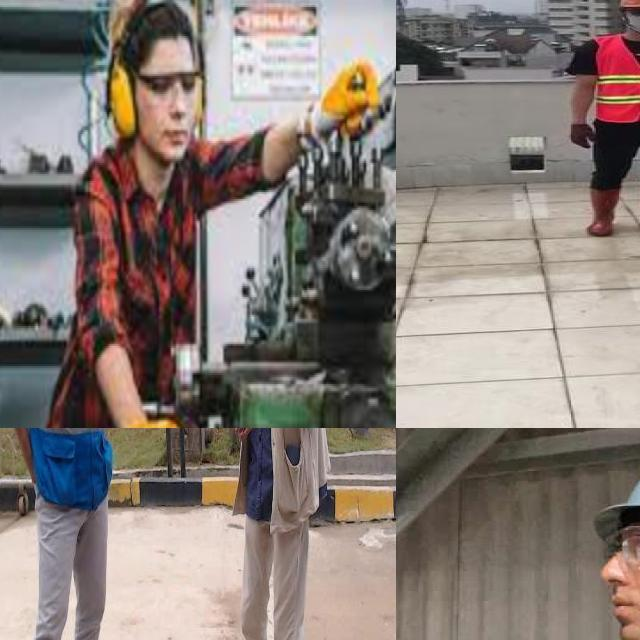Ear-protection: (103, 4, 207, 174)
boots: (585, 188, 619, 236)
face_mask: (623, 4, 640, 31)
glasses: (623, 5, 640, 18)
hand_glove: (566, 123, 600, 150)
person: (178, 428, 341, 640), (0, 428, 150, 640), (558, 0, 640, 243)
vest: (23, 428, 115, 500), (594, 34, 640, 123)
